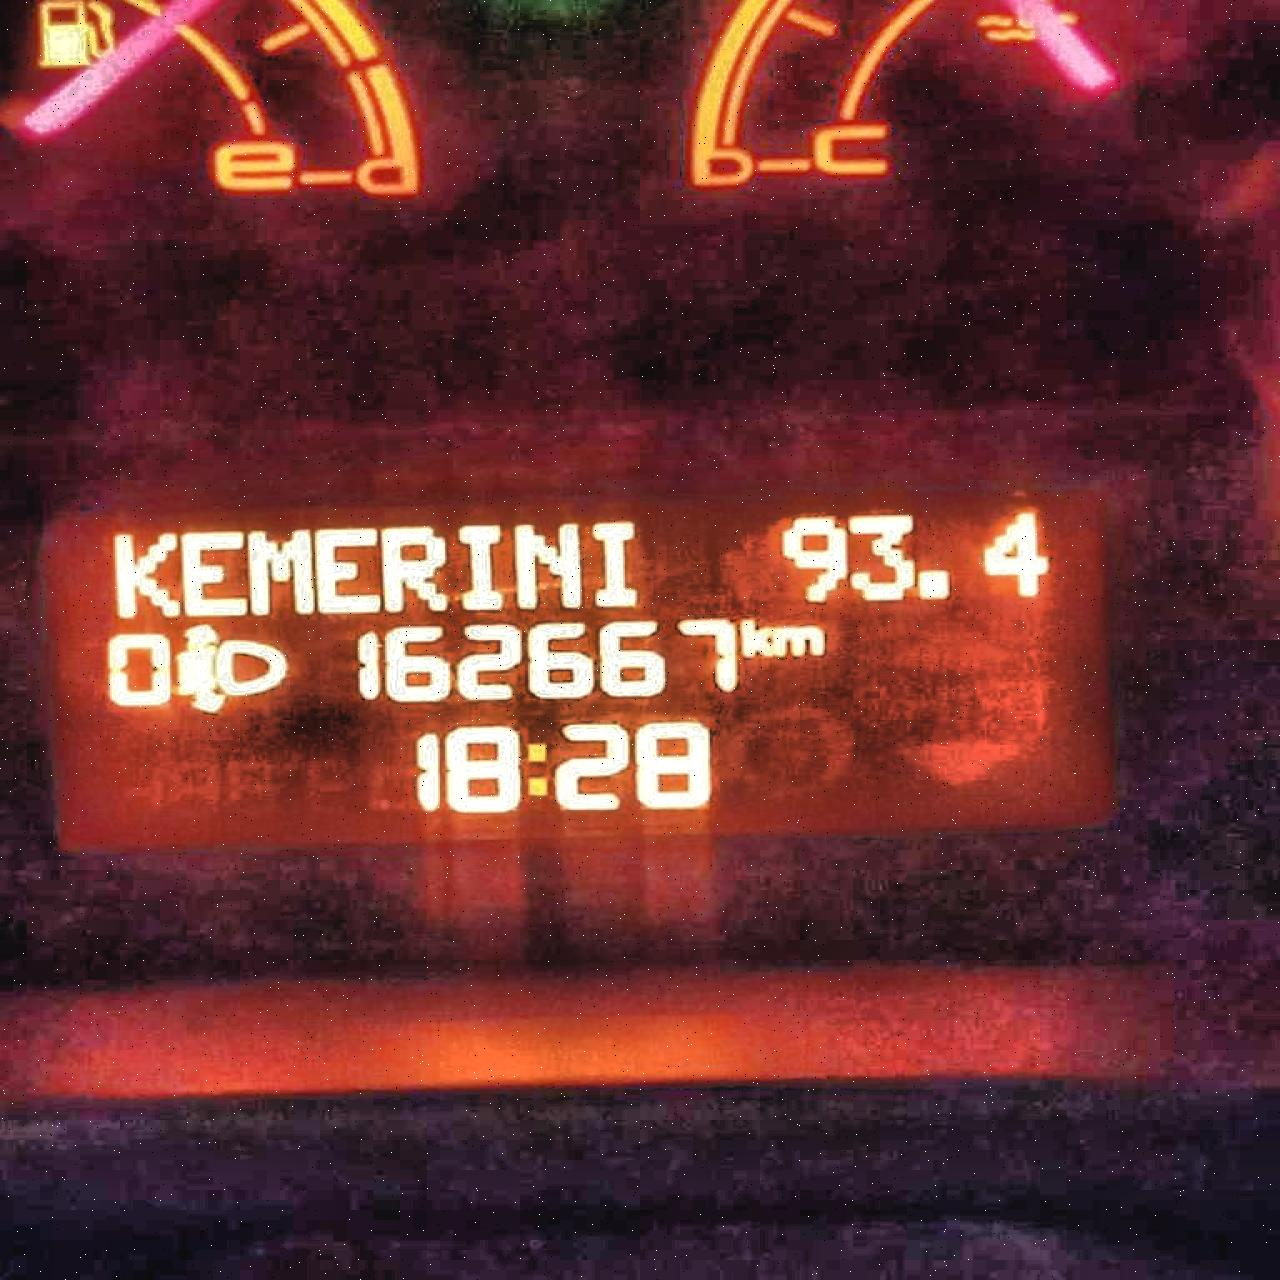-: (915, 567, 949, 600)
0: (105, 628, 175, 707)
1: (410, 730, 442, 811), (352, 627, 381, 701)
2: (551, 721, 626, 811), (451, 620, 522, 702)
3: (849, 511, 917, 601)
4: (976, 508, 1051, 598)
6: (381, 622, 451, 703), (597, 618, 666, 697), (525, 621, 593, 699)
7: (675, 615, 738, 693)
8: (633, 719, 712, 811), (445, 722, 522, 813)
9: (775, 515, 849, 604)
X: (379, 523, 450, 613), (512, 520, 584, 611), (245, 526, 316, 615), (178, 529, 248, 617), (111, 531, 181, 620), (312, 524, 381, 613), (454, 523, 506, 612), (590, 517, 640, 607), (769, 625, 824, 656), (522, 738, 550, 797), (738, 614, 769, 658)
odometer: (40, 492, 1138, 859)
